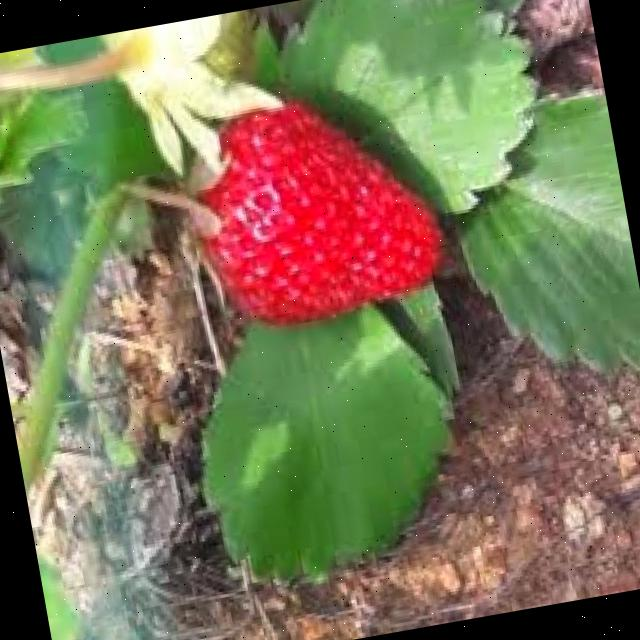strawberry: (172, 70, 454, 339)
